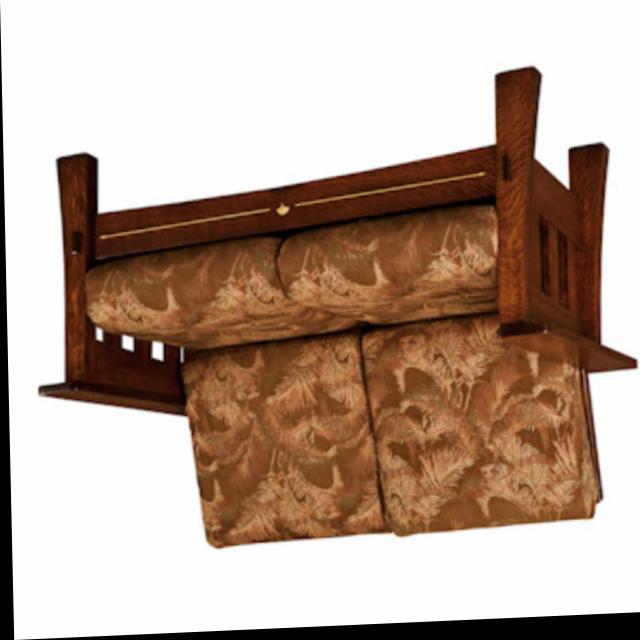Sofa: (29, 70, 640, 555)
